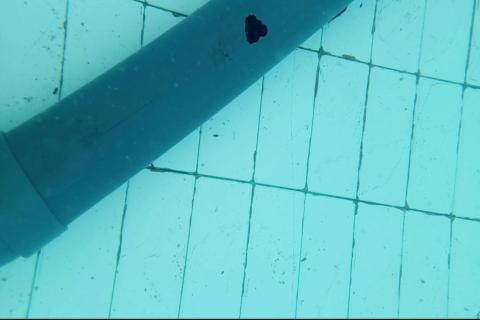kebocoran: (243, 12, 268, 46)
